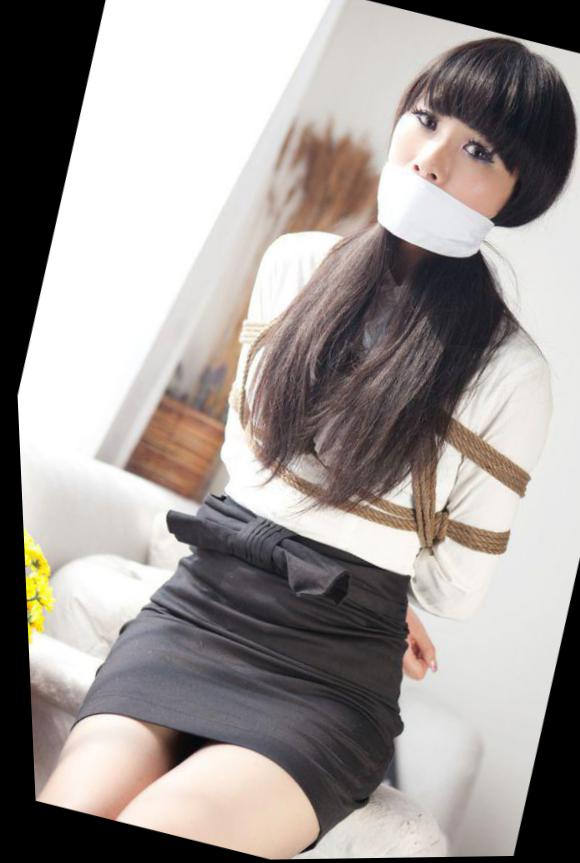WRONG: (362, 87, 538, 259)
